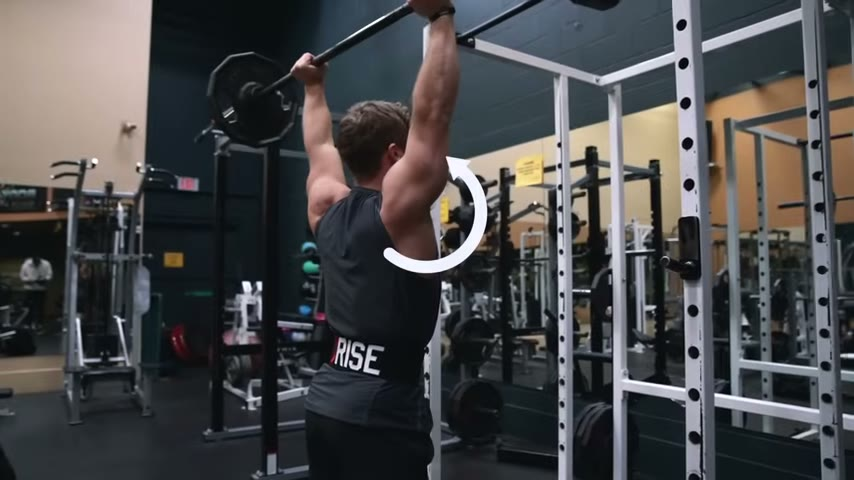barbell_plate_side: (192, 4, 280, 161)
